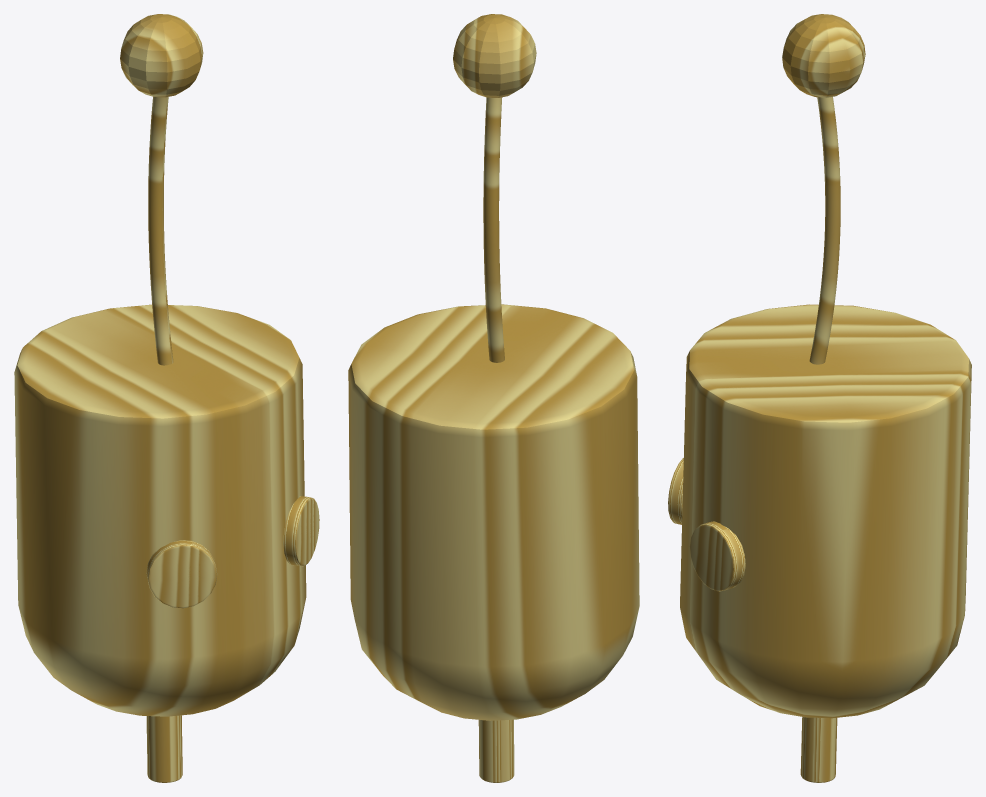
The model's file is head.obj.
3 renders of one model, left to right at view 1: azimuth 30°, elevation 25°; view 2: azimuth 150°, elevation 25°; view 3: azimuth 270°, elevation 25°, orthographic.
Parts seen in each view (by area): view 1: Blake_head_head, Blake_ponytail_ponytail_end, Blake_ponytail_ponytail, Blake_head_right_eye_eyes, neck_Blake, Blake_head_eyes_left_eye; view 2: Blake_head_head, Blake_ponytail_ponytail_end, Blake_ponytail_ponytail, neck_Blake; view 3: Blake_head_head, Blake_ponytail_ponytail_end, Blake_ponytail_ponytail, Blake_head_eyes_left_eye, neck_Blake, Blake_head_right_eye_eyes.
Part boxes in pixels (left/top/right/bottom): Blake_head_head: left=14, top=304, right=306, bottom=716; Blake_ponytail_ponytail_end: left=120, top=14, right=203, bottom=97; Blake_ponytail_ponytail: left=148, top=96, right=173, bottom=365; Blake_head_right_eye_eyes: left=146, top=540, right=217, bottom=608; neck_Blake: left=146, top=715, right=182, bottom=782; Blake_head_eyes_left_eye: left=283, top=496, right=319, bottom=566; Blake_head_head: left=348, top=304, right=639, bottom=720; Blake_ponytail_ponytail_end: left=453, top=14, right=536, bottom=97; Blake_ponytail_ponytail: left=483, top=97, right=504, bottom=362; neck_Blake: left=478, top=719, right=514, bottom=782; Blake_head_head: left=680, top=304, right=971, bottom=718; Blake_ponytail_ponytail_end: left=782, top=14, right=865, bottom=97; Blake_ponytail_ponytail: left=809, top=97, right=840, bottom=364; Blake_head_eyes_left_eye: left=689, top=521, right=745, bottom=591; neck_Blake: left=800, top=717, right=837, bottom=782; Blake_head_right_eye_eyes: left=668, top=458, right=683, bottom=524.
Bounding box in the file's own units: 2.54 × 7.4 × 2.69.
